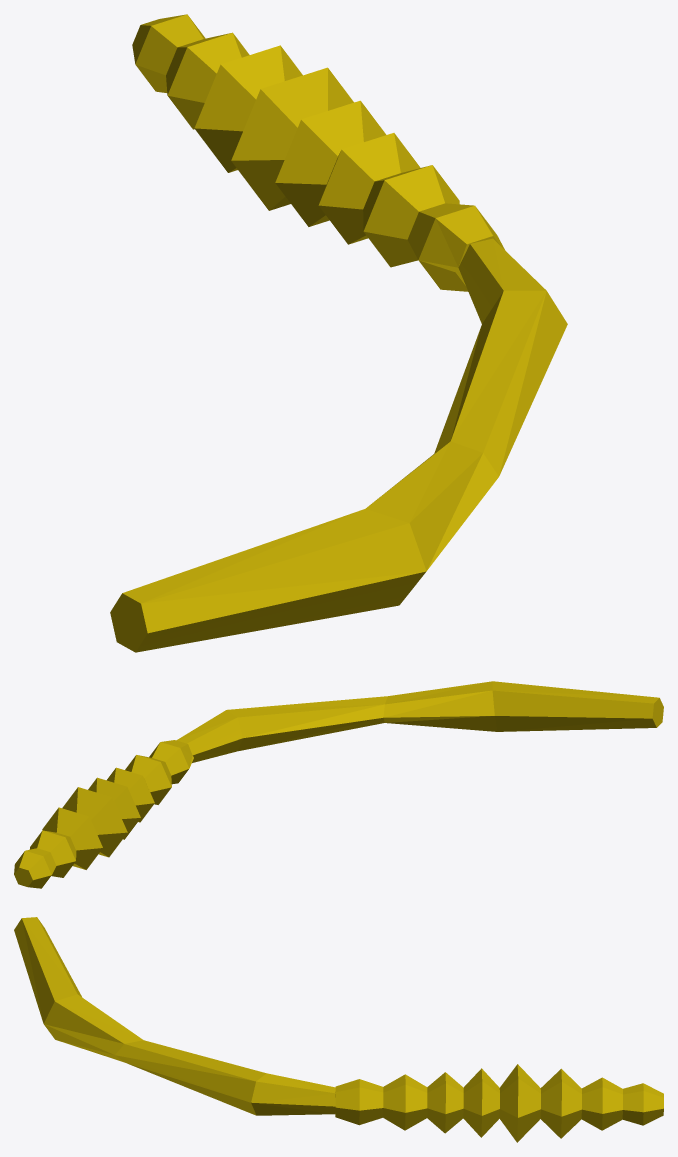
File: Vegetation_Modular_Rush_Frond_Seed_Pod_03.fbx
3 views of the same model, one above another, from view 1: azimuth 30°, elevation 25°; view 2: azimuth 150°, elevation 25°; view 3: azimuth 270°, elevation 25° (orthographic). The views are drawn at different scales.
Visible parts, largest first — view 1: Vegetation_Modular_Rush_Frond_Seed_Pod_03; view 2: Vegetation_Modular_Rush_Frond_Seed_Pod_03; view 3: Vegetation_Modular_Rush_Frond_Seed_Pod_03.
Part boxes in pixels (x1,y1,x2,y2): Vegetation_Modular_Rush_Frond_Seed_Pod_03: [110, 14, 567, 652]; Vegetation_Modular_Rush_Frond_Seed_Pod_03: [14, 681, 663, 888]; Vegetation_Modular_Rush_Frond_Seed_Pod_03: [14, 917, 663, 1142].
Bounding box in the file's own units: 0.208 × 0.0351 × 0.319.
